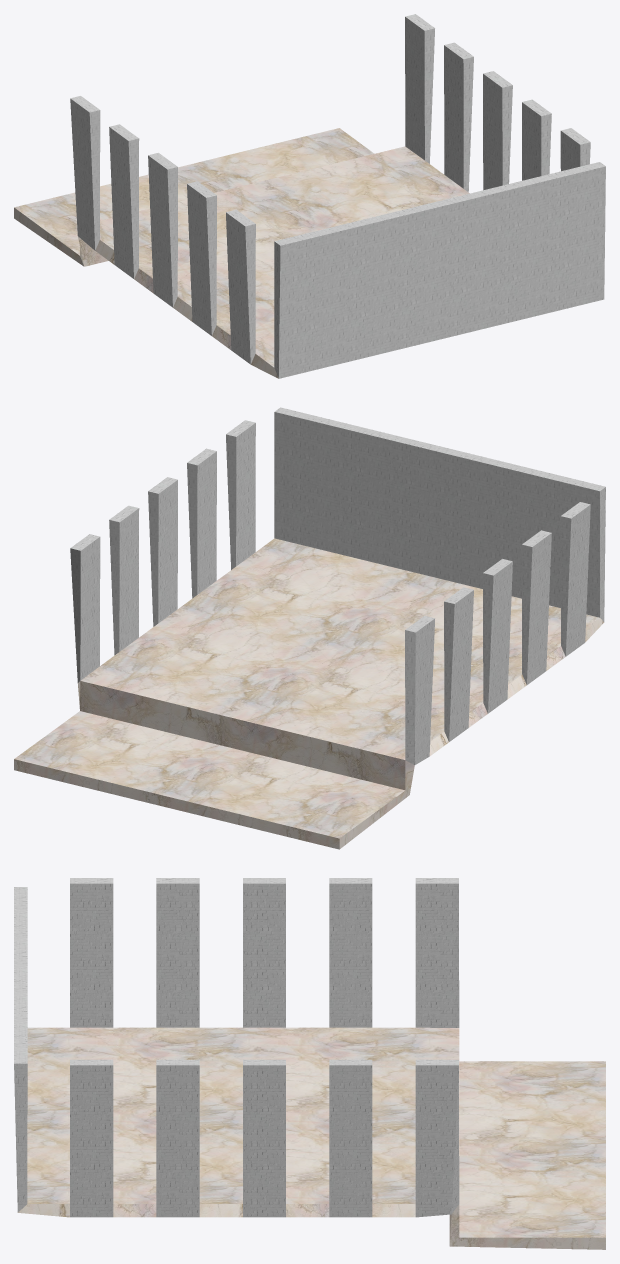
The model's file is FloorAndWall.FBX.
3 renders of one model, top to bottom at view 1: azimuth 30°, elevation 25°; view 2: azimuth 150°, elevation 25°; view 3: azimuth 270°, elevation 25°, orthographic. The views are drawn at different scales.
Parts seen in each view (by area): view 1: Wall, Floor; view 2: Floor, Wall; view 3: Floor, Wall.
Boxes of the visible parts, x1,y1,x2,y2 form: Wall: [70, 14, 605, 378]; Floor: [14, 128, 469, 378]; Floor: [14, 538, 603, 849]; Wall: [70, 407, 605, 765]; Floor: [18, 1027, 605, 1249]; Wall: [14, 878, 459, 1217].
Bounding box in the file's own units: 581 × 275 × 776.
Materials: 2 (2 with a texture image).
